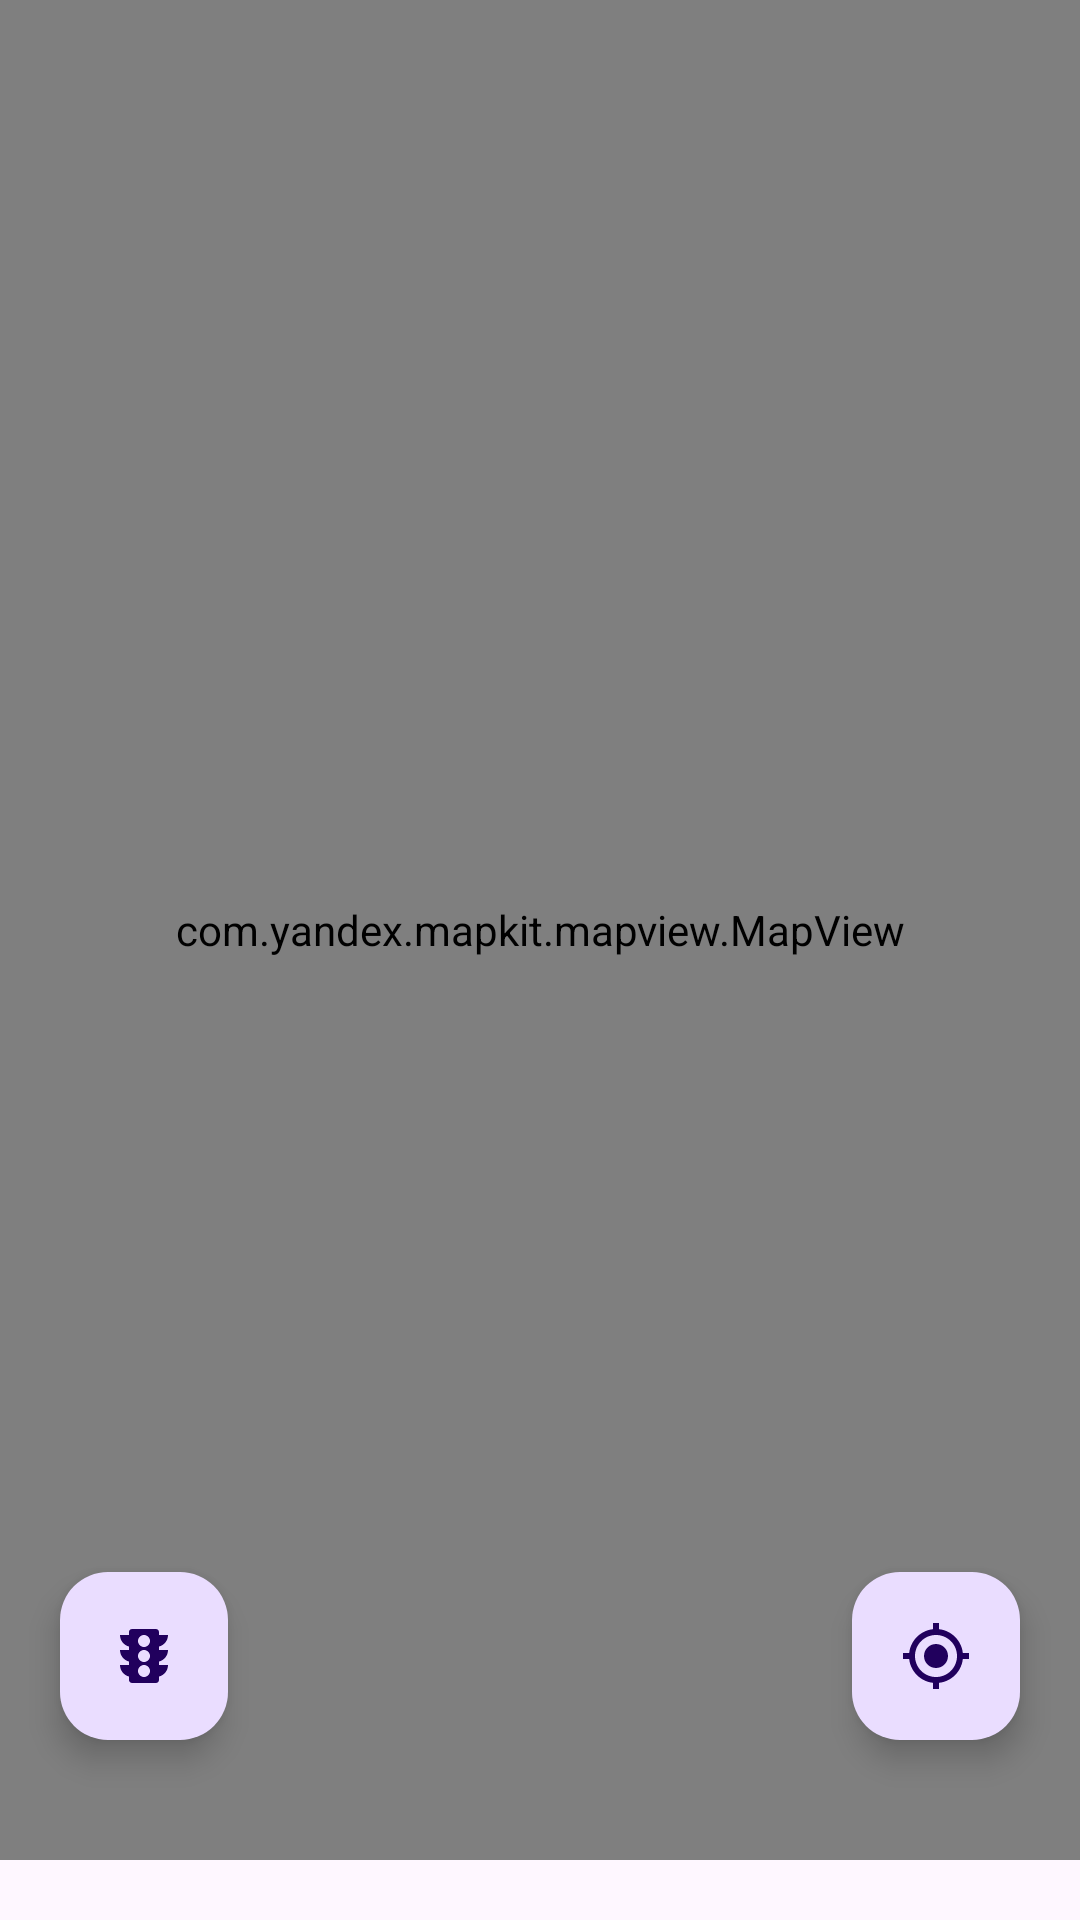

Where icons sit on this 1080*1920 app screen, as [x1,y1,x2,y2]:
location: [852,1572,1020,1740]
traffic: [60,1572,228,1740]
